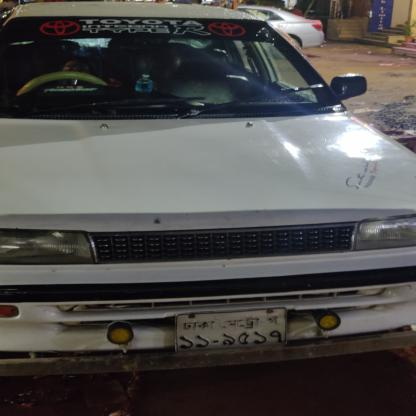license_plate: (152, 310, 302, 369)
